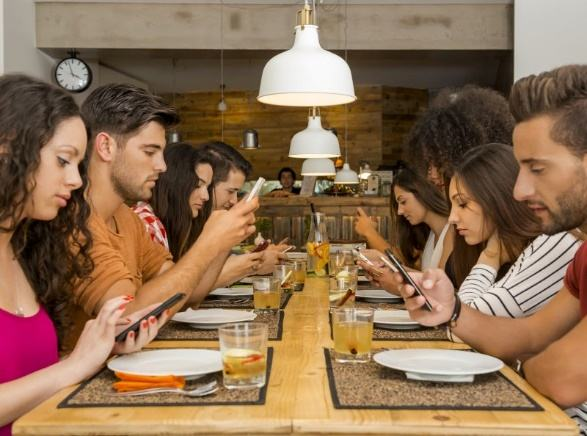reading: (385, 246, 456, 330), (197, 174, 267, 255)
